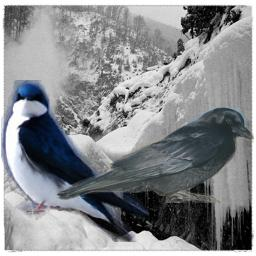Crow: (55, 106, 254, 203)
Swallow: (1, 80, 149, 242)
